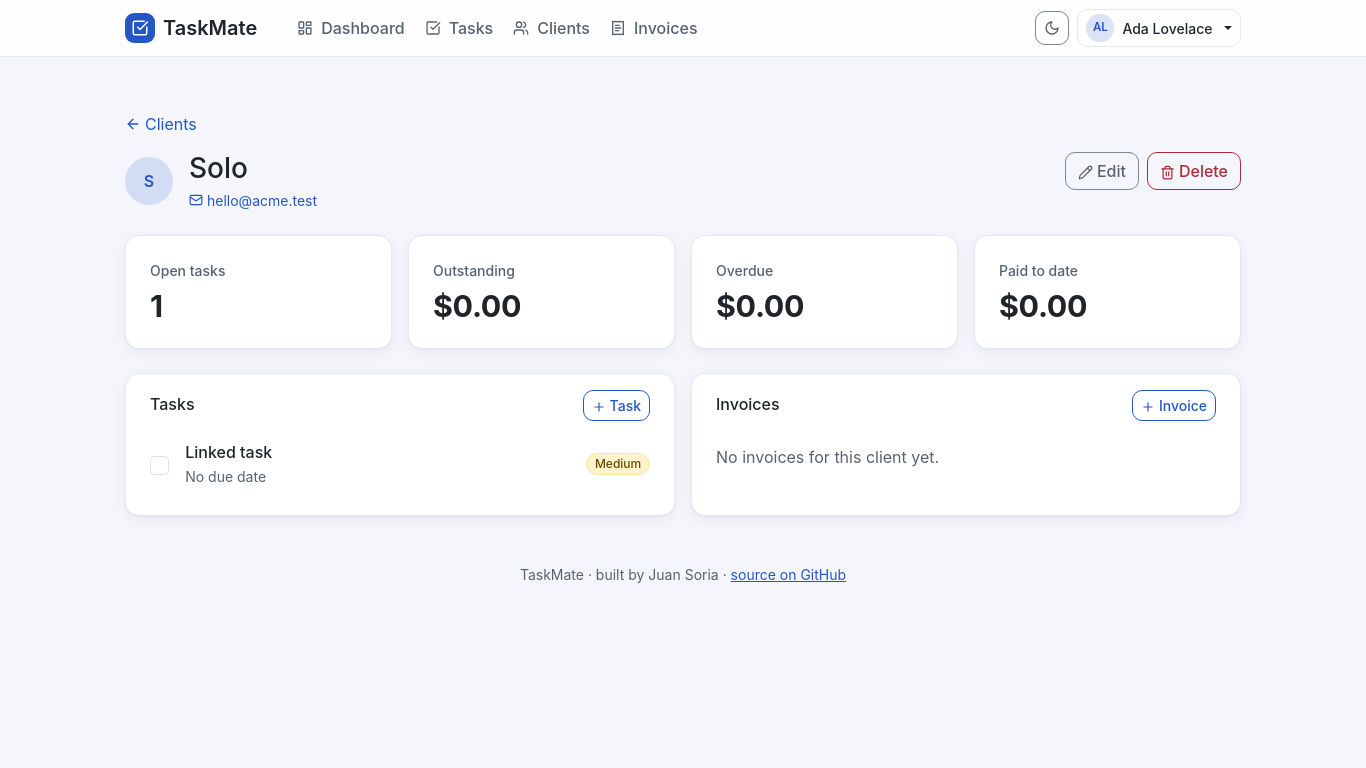
Test case: Client detail page › deleting › removes a client without invoices and keeps their tasks (unlinked)
The image size is (1366, 768).
Click the button "Delete" at x=1194, y=171, box [1147,152,1241,190]
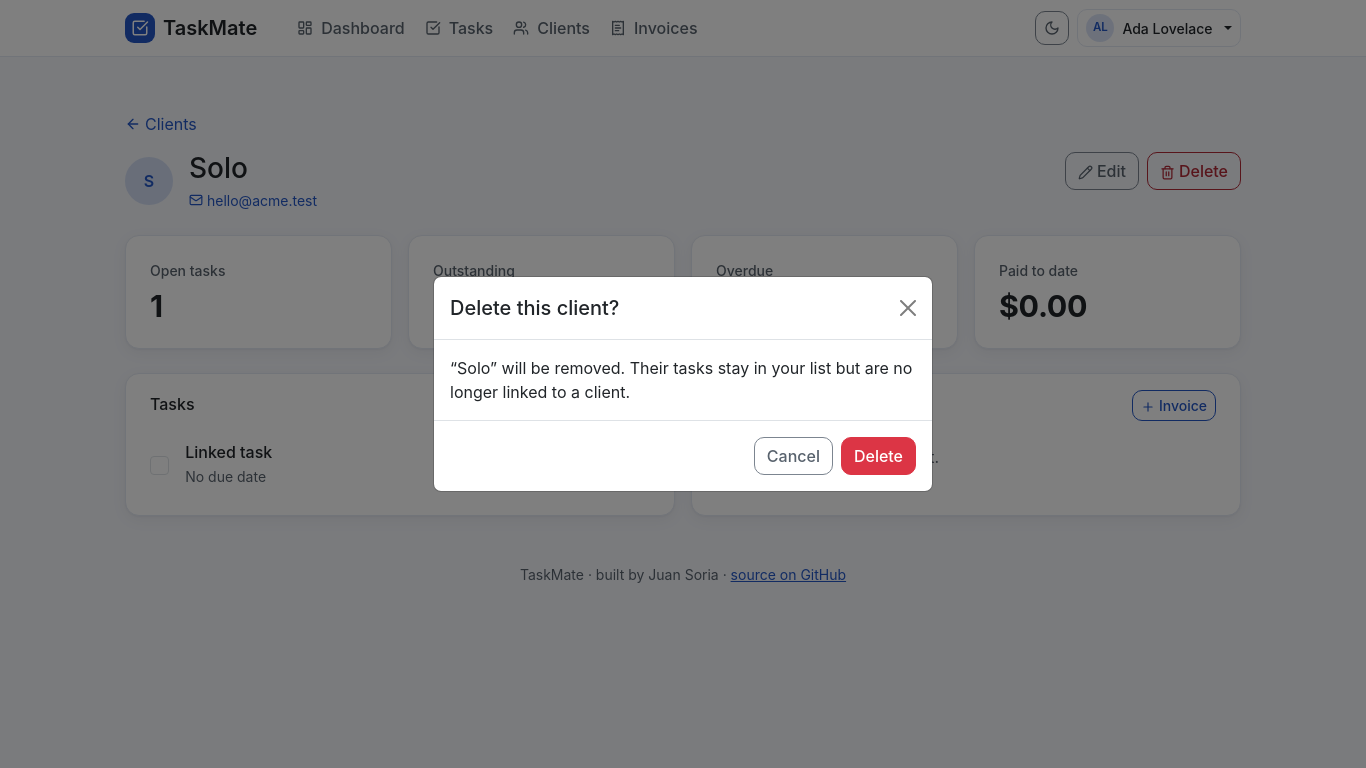
Expected: the dialog "Delete this client?" shows "Their tasks stay in your list", [450,358,912,402]
Click the button "Delete" at x=878, y=456, box [841,437,916,475]
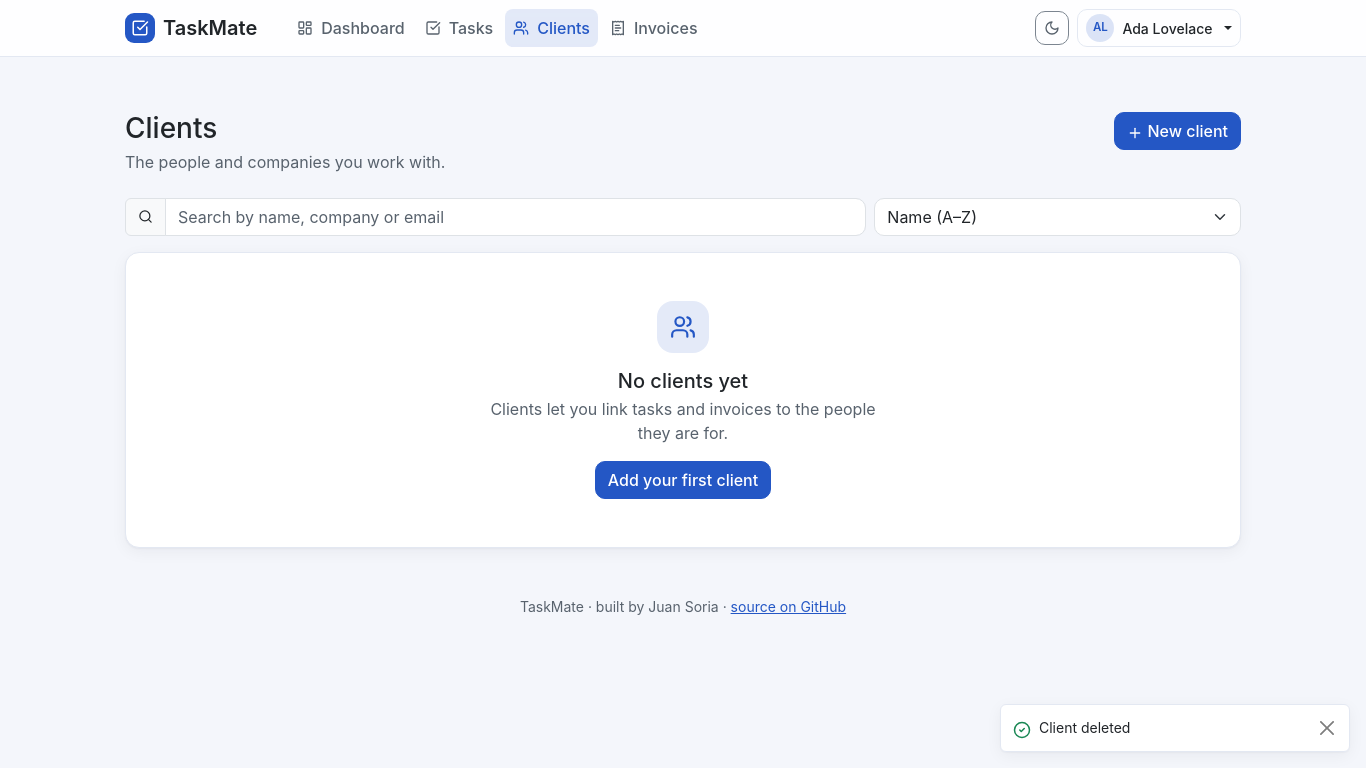
Expected: the text "Client deleted" is shown, [1039,719,1130,736]
